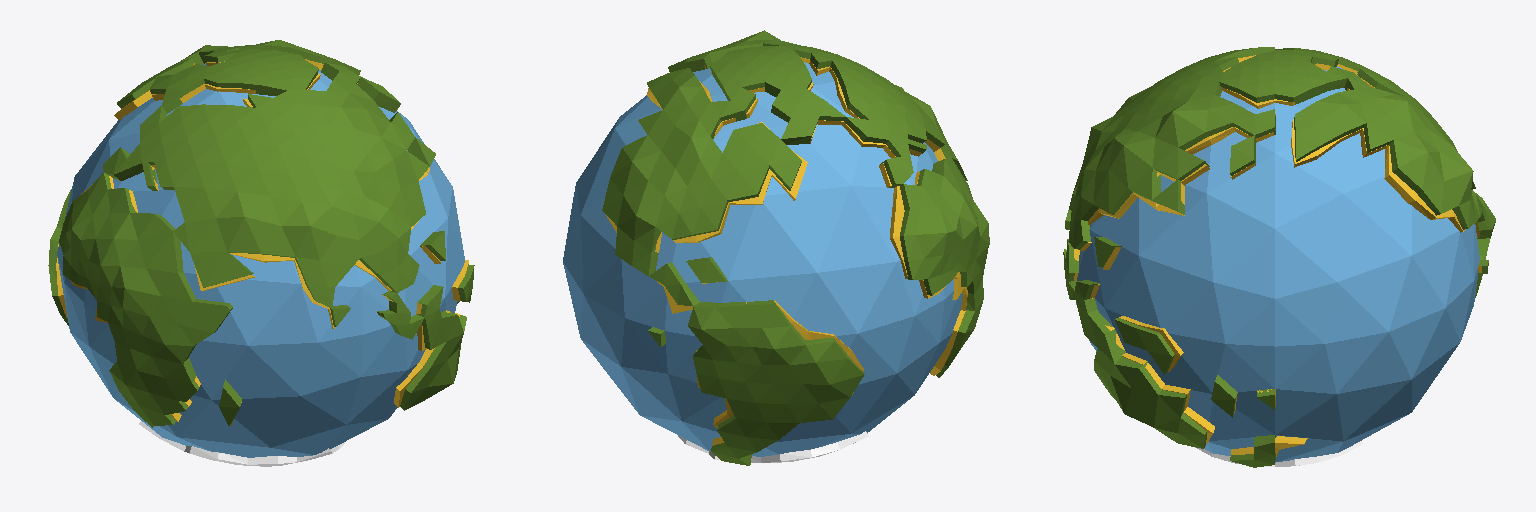
The picture shows the model from 3 angles: view 1: azimuth 30°, elevation 25°; view 2: azimuth 150°, elevation 25°; view 3: azimuth 270°, elevation 25°; orthographic projection.
Parts seen in each view (by area): view 1: Earth; view 2: Earth; view 3: Earth.
Part boxes in pixels (x1,y1,x2,y2): Earth: (48, 40, 474, 466); Earth: (563, 30, 989, 465); Earth: (1063, 47, 1495, 467).
Size of the model in its own units: 52.94 by 52.98 by 54.43.
Materials: 1 (1 with a texture image).